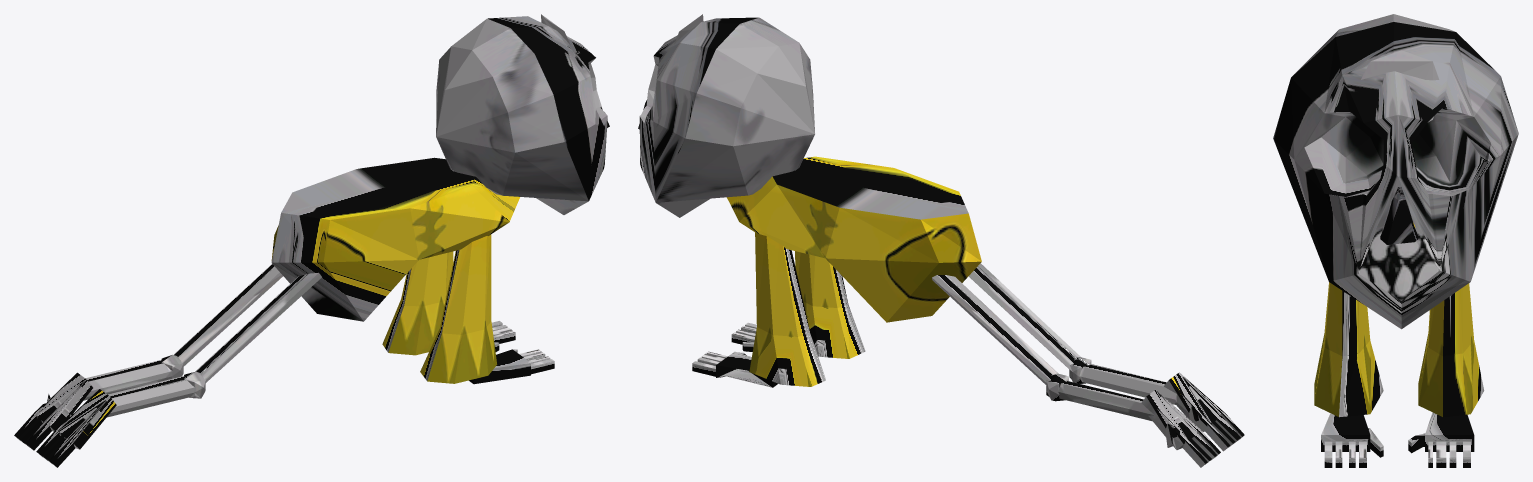
File: OldSit3.glb
The picture shows the model from 3 angles, left to right: view 1: azimuth 30°, elevation 25°; view 2: azimuth 150°, elevation 25°; view 3: azimuth 270°, elevation 25°; orthographic projection. The views are drawn at different scales.
Parts seen in each view (by area): view 1: OldSit3; view 2: OldSit3; view 3: OldSit3.
Part boxes in pixels (x1,y1,x2,y2): OldSit3: (14,14,609,467); OldSit3: (638,14,1244,467); OldSit3: (1273,14,1518,467).
Size of the model in its own units: 110 by 59.74 by 30.63.
Materials: 1 (1 with a texture image).
